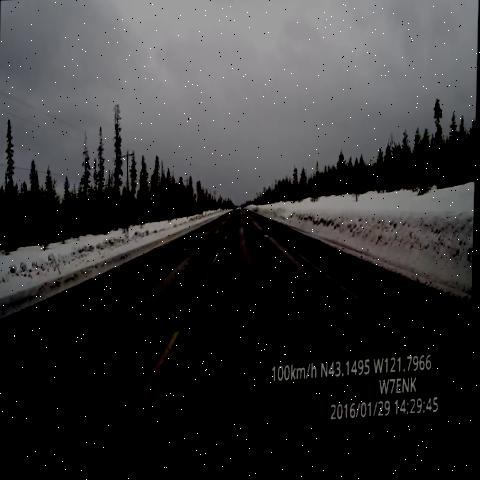pothole: (262, 227, 274, 251), (233, 211, 249, 229)
